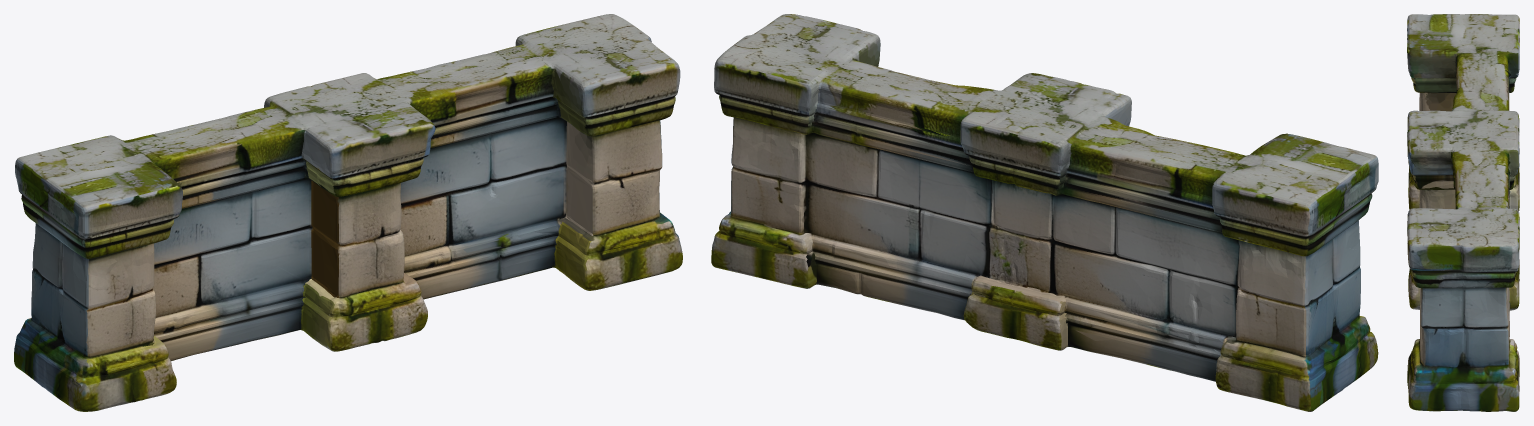
Rendered from kadamba-weathered-wall-section-optimized.glb.
The picture shows the model from 3 angles, left to right: view 1: azimuth 30°, elevation 25°; view 2: azimuth 150°, elevation 25°; view 3: azimuth 270°, elevation 25°; orthographic projection. The views are drawn at different scales.
Visible parts, largest first — view 1: c3773f32-cbc8-4141-b83e-6afc42bbef94_texturing.obj; view 2: c3773f32-cbc8-4141-b83e-6afc42bbef94_texturing.obj; view 3: c3773f32-cbc8-4141-b83e-6afc42bbef94_texturing.obj.
Boxes of the visible parts, bbox=[...] form: c3773f32-cbc8-4141-b83e-6afc42bbef94_texturing.obj: bbox=[14, 14, 682, 411]; c3773f32-cbc8-4141-b83e-6afc42bbef94_texturing.obj: bbox=[711, 14, 1378, 411]; c3773f32-cbc8-4141-b83e-6afc42bbef94_texturing.obj: bbox=[1407, 14, 1519, 411].
Size of the model in its own units: 4 by 1.33 by 0.8109.
1 material, 1 textured.
